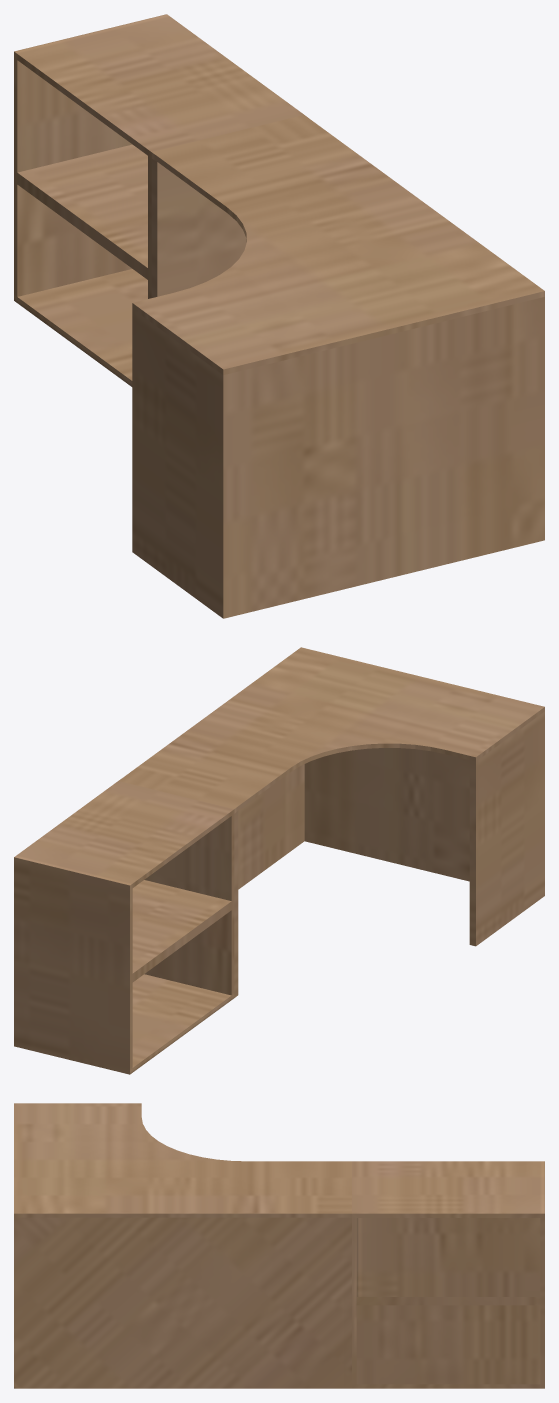
The model's file is desk.fbx.
3 views of the same model, one above another, from view 1: azimuth 30°, elevation 25°; view 2: azimuth 150°, elevation 25°; view 3: azimuth 270°, elevation 25° (orthographic). The views are drawn at different scales.
Visible parts, largest first — view 1: Cube; view 2: Cube; view 3: Cube.
Part boxes in pixels (left/top/right/bottom): Cube: left=14, top=14, right=544, bottom=618; Cube: left=14, top=647, right=544, bottom=1074; Cube: left=14, top=1103, right=544, bottom=1388.
Size of the model in its own units: 270 by 200 by 550.
